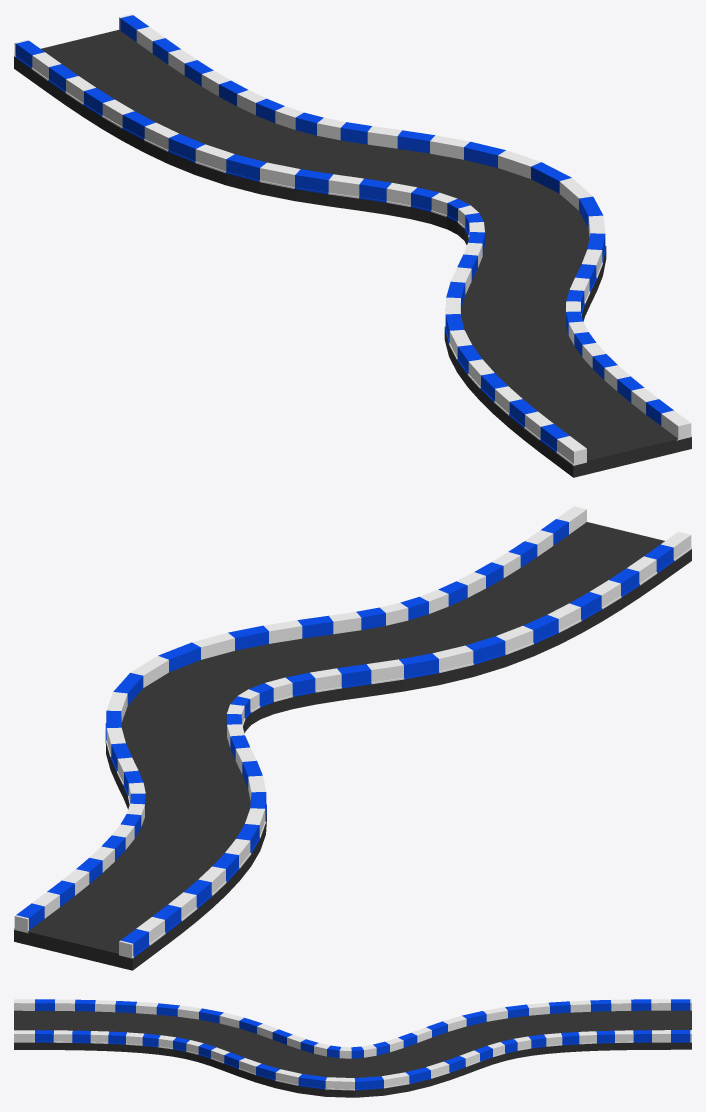
File: straight_curve_2_.glb
3 views of the same model, one above another, from view 1: azimuth 30°, elevation 25°; view 2: azimuth 150°, elevation 25°; view 3: azimuth 270°, elevation 25° (orthographic). The views are drawn at different scales.
Parts seen in each view (by area): view 1: path 1; view 2: path 1; view 3: path 1.
Boxes of the visible parts, box(x1,y1,x2,y2) form: path 1: box(14, 14, 691, 477); path 1: box(14, 506, 691, 970); path 1: box(14, 999, 691, 1097).
Bounding box in the file's own units: 9.22 × 0.8104 × 31.78.
